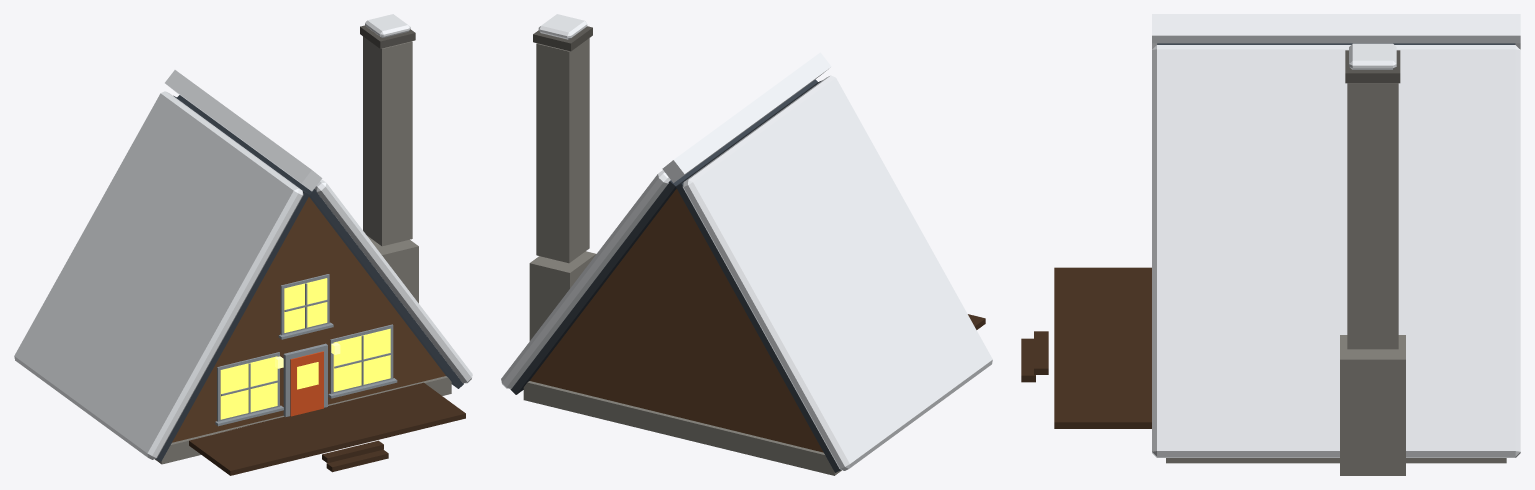
The model's file is lodge-tier-1-aframe60s.glb.
The picture shows the model from 3 angles, left to right: view 1: azimuth 30°, elevation 25°; view 2: azimuth 150°, elevation 25°; view 3: azimuth 270°, elevation 25°; orthographic projection. The views are drawn at different scales.
Visible parts, largest first — view 1: lodge-tier-1-aframe60s; view 2: lodge-tier-1-aframe60s; view 3: lodge-tier-1-aframe60s.
Boxes of the visible parts, <box> form: lodge-tier-1-aframe60s: <box>14,14,472,475</box>; lodge-tier-1-aframe60s: <box>501,14,992,475</box>; lodge-tier-1-aframe60s: <box>1021,14,1520,475</box>.
Size of the model in its own units: 14.4 by 12.64 by 13.64.
